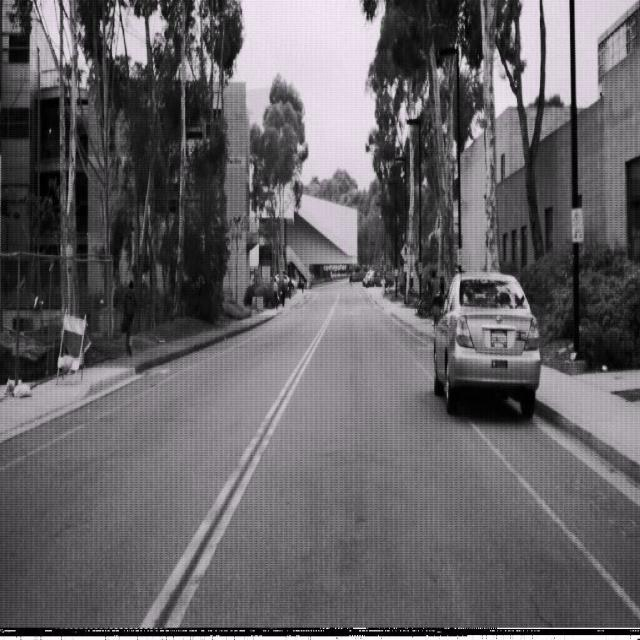pedestrianCrossing: (400, 242, 411, 262)
